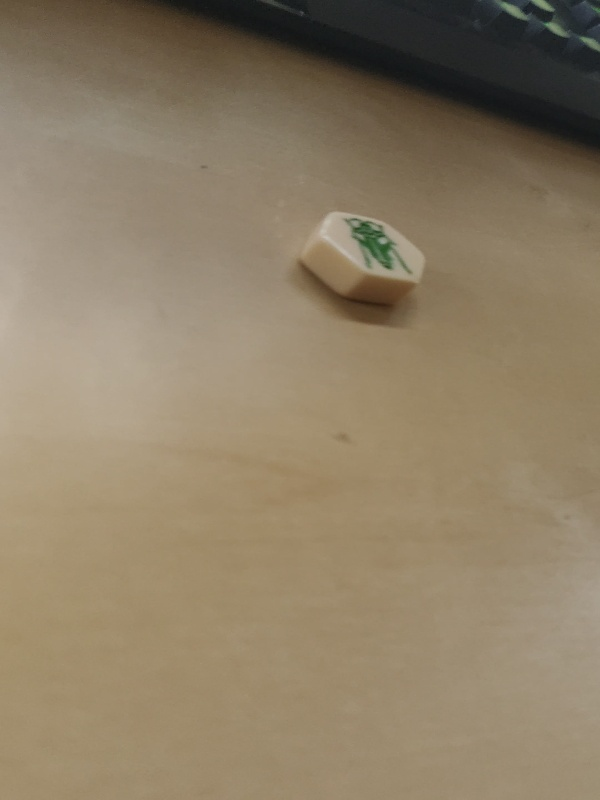white_grasshopper: (303, 210, 419, 304)
